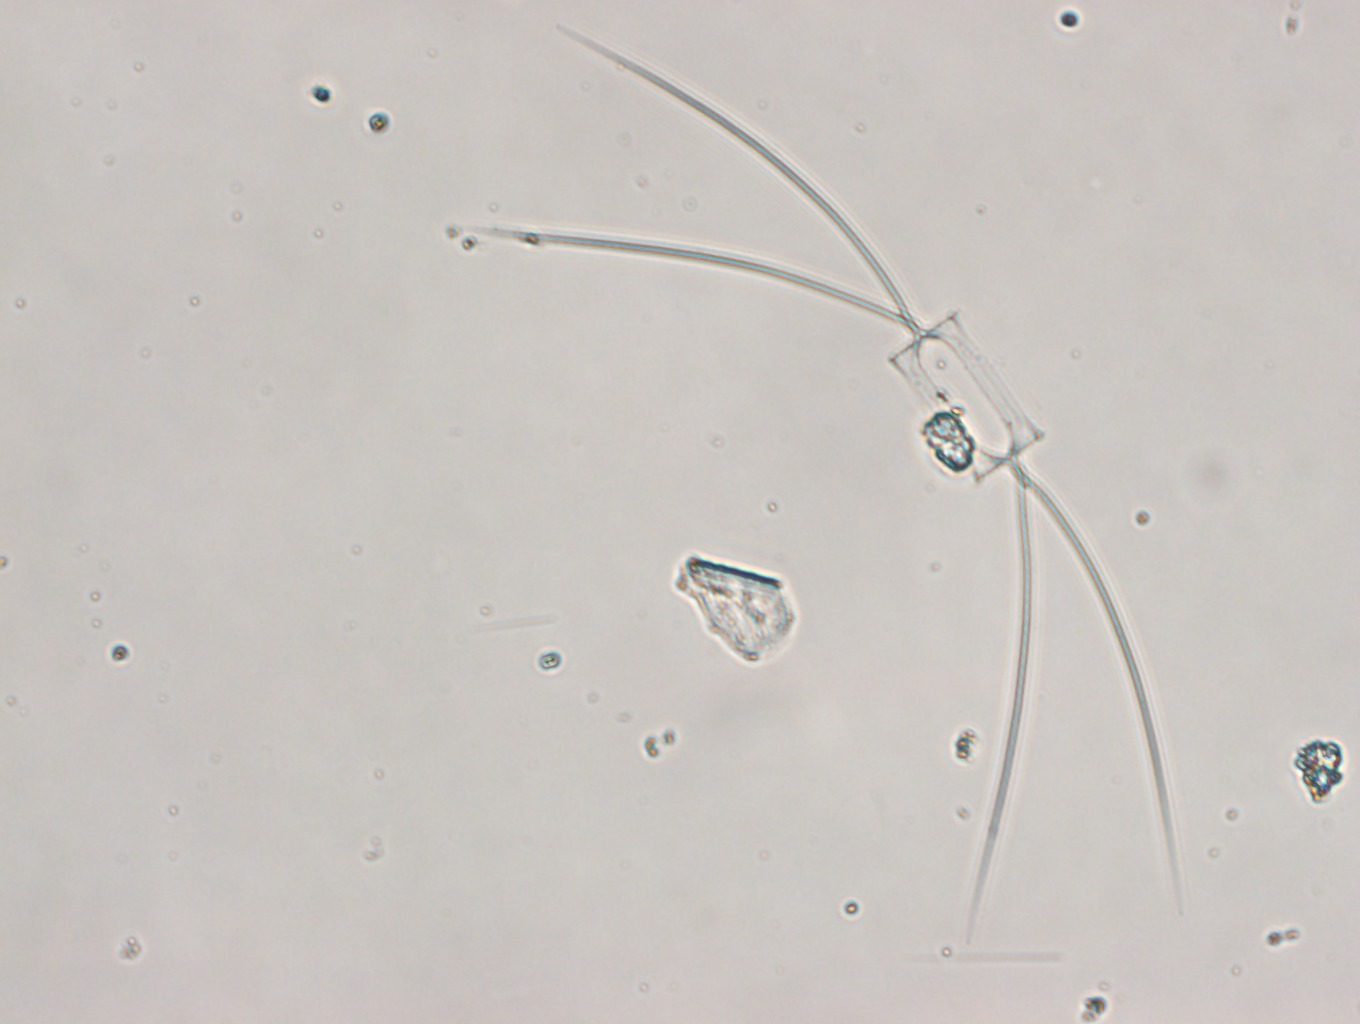chaetoceros: (468, 19, 1185, 934)
